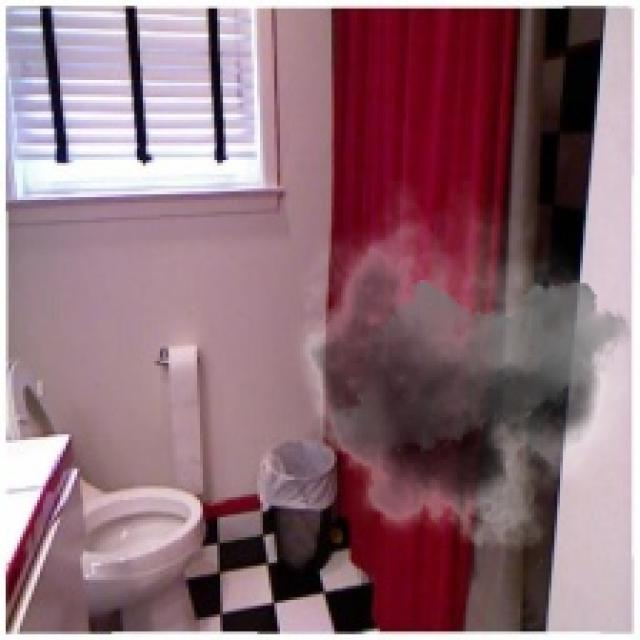smoke: (280, 177, 631, 569)
